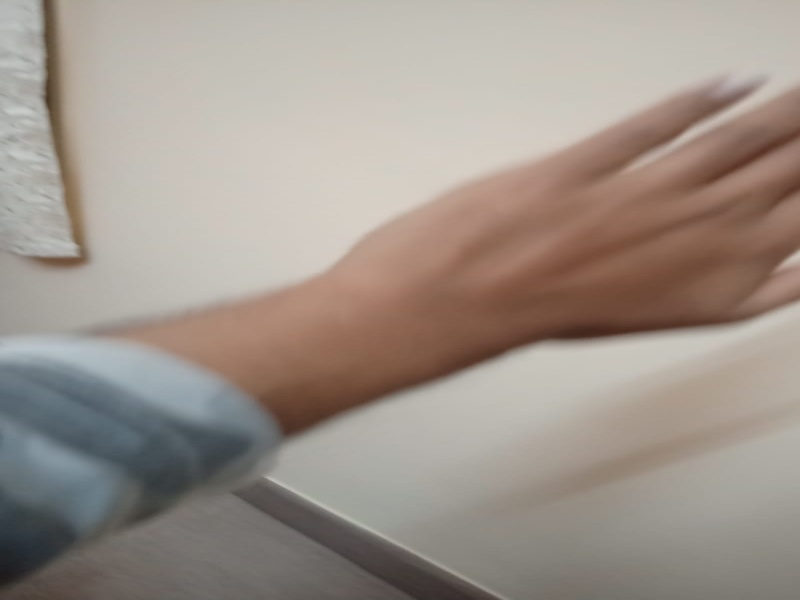Hand: (351, 57, 799, 377)
